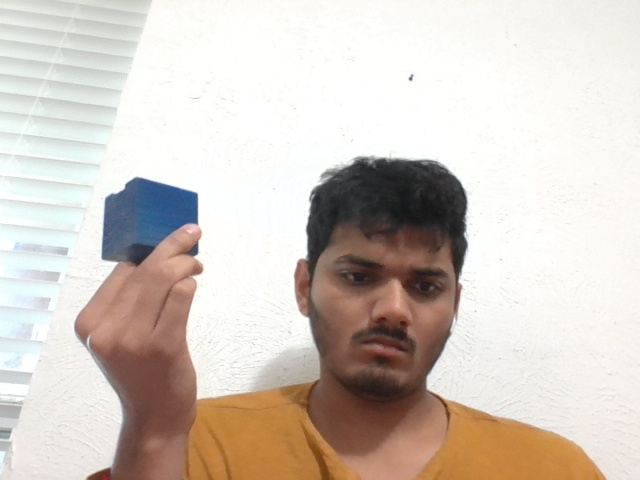BlueBlock: (103, 177, 198, 261)
